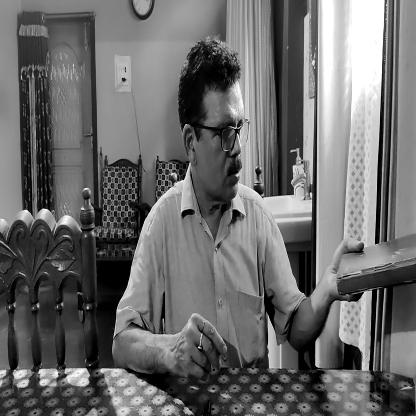Distracted: (176, 40, 245, 212)
